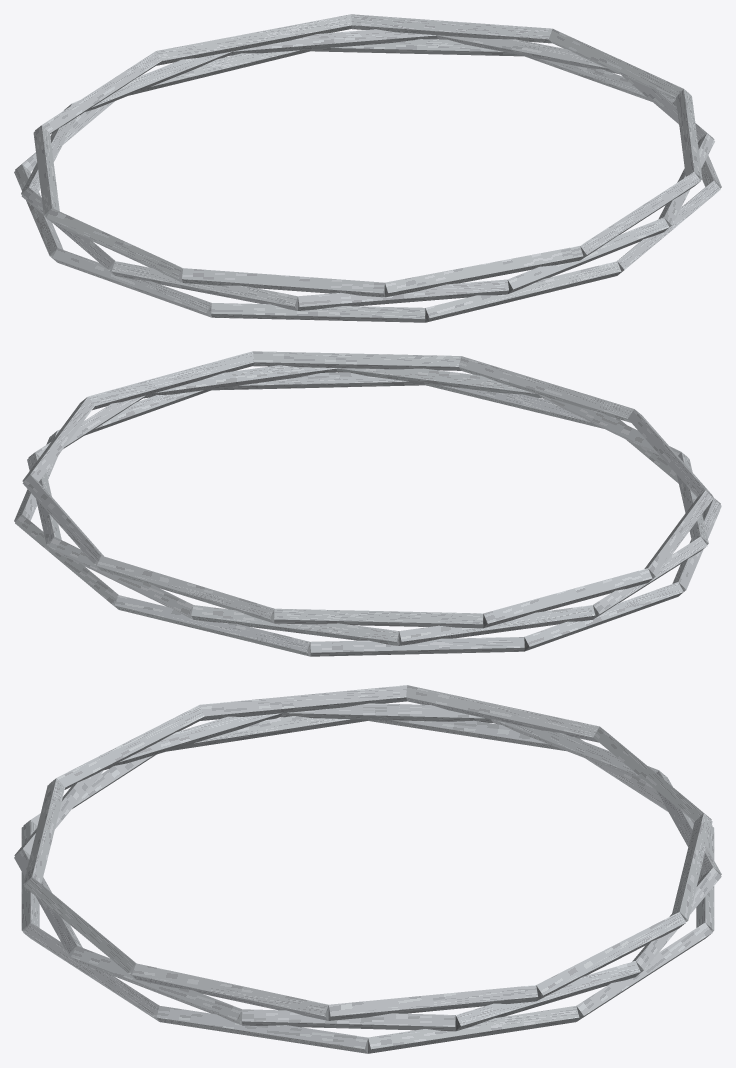
File: lc_wire.glb
3 views of the same model, one above another, from view 1: azimuth 30°, elevation 25°; view 2: azimuth 150°, elevation 25°; view 3: azimuth 270°, elevation 25° (orthographic). The views are drawn at different scales.
Visible parts, largest first — view 1: block_wire0-3, block_wire2-0, block_wire2-5, block_wire2-9, block_wire2-4, block_wire0-2, block_wire1-1, block_wire1-2, block_wire1-6, block_wire0-4, block_wire2-1, block_wire1-0 (+17 smaller); view 2: block_wire2-3, block_wire2-8, block_wire0-6, block_wire0-7, block_wire2-4, block_wire1-5, block_wire2-9, block_wire2-2, block_wire1-4, block_wire2-7, block_wire0-5, block_wire1-0 (+17 smaller); view 3: block_wire2-6, block_wire2-1, block_wire0-0, block_wire0-9, block_wire2-7, block_wire2-2, block_wire1-8, block_wire1-7, block_wire1-3, block_wire2-5, block_wire2-0, block_wire1-9 (+18 smaller).
Part boxes in pixels (bbox=[...]): block_wire0-3: bbox=[211, 303, 425, 322]; block_wire2-0: bbox=[182, 268, 384, 297]; block_wire2-5: bbox=[351, 14, 552, 43]; block_wire2-9: bbox=[385, 246, 583, 297]; block_wire2-4: bbox=[156, 14, 351, 65]; block_wire0-2: bbox=[425, 261, 621, 322]; block_wire1-1: bbox=[298, 279, 508, 310]; block_wire1-2: bbox=[111, 261, 297, 310]; block_wire1-6: bbox=[228, 29, 437, 55]; block_wire0-4: bbox=[52, 248, 211, 317]; block_wire2-1: bbox=[46, 208, 183, 282]; block_wire1-0: bbox=[507, 217, 669, 293]; block_wire2-3: bbox=[274, 608, 483, 628]; block_wire2-8: bbox=[252, 351, 461, 370]; block_wire0-6: bbox=[310, 637, 524, 656]; block_wire0-7: bbox=[114, 595, 310, 656]; block_wire2-4: bbox=[97, 555, 274, 623]; block_wire1-5: bbox=[191, 605, 399, 645]; block_wire2-9: bbox=[458, 356, 634, 422]; block_wire2-2: bbox=[483, 568, 652, 628]; block_wire1-4: bbox=[399, 605, 595, 645]; block_wire2-7: bbox=[88, 351, 254, 410]; block_wire0-5: bbox=[524, 582, 683, 651]; block_wire1-0: bbox=[336, 368, 541, 398]; block_wire2-6: bbox=[328, 985, 537, 1020]; block_wire2-1: bbox=[200, 685, 407, 720]; block_wire0-0: bbox=[156, 1006, 367, 1053]; block_wire0-9: bbox=[368, 1006, 579, 1053]; block_wire2-7: bbox=[132, 963, 328, 1020]; block_wire2-2: bbox=[406, 685, 599, 742]; block_wire1-8: bbox=[242, 1009, 455, 1031]; block_wire1-7: bbox=[455, 961, 640, 1031]; block_wire1-3: bbox=[280, 703, 492, 722]; block_wire2-5: bbox=[536, 912, 686, 1000]; block_wire2-0: bbox=[51, 705, 204, 789]; block_wire1-9: bbox=[71, 946, 242, 1025].
Bounding box in the file's own units: 0.1339 × 0.0078 × 0.1178.
1 material, 1 textured.
